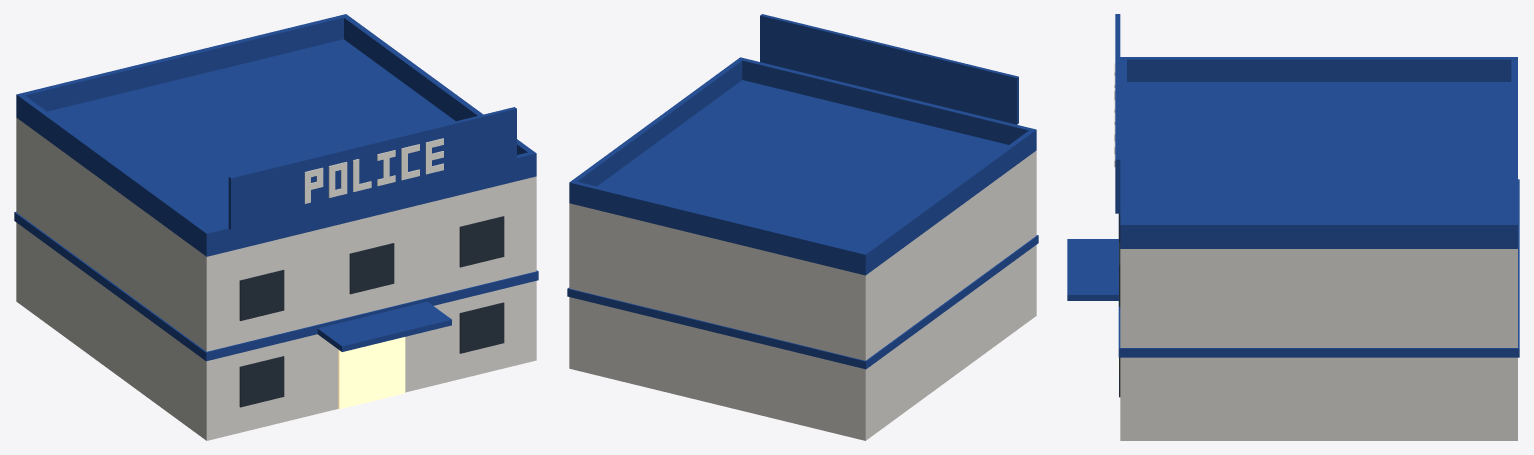
Rendered from bld_bh_police.glb.
3 renders of one model, left to right at view 1: azimuth 30°, elevation 25°; view 2: azimuth 150°, elevation 25°; view 3: azimuth 270°, elevation 25°, orthographic. The views are drawn at different scales.
Parts seen in each view (by area): view 1: bld_bh_police; view 2: bld_bh_police; view 3: bld_bh_police.
Boxes of the visible parts, box(x1,y1,x2,y2) form: bld_bh_police: box(14, 14, 538, 440); bld_bh_police: box(567, 14, 1038, 440); bld_bh_police: box(1067, 14, 1519, 440).
Size of what is drawn, in the model's own units: 12.1 by 9 by 13.65.
